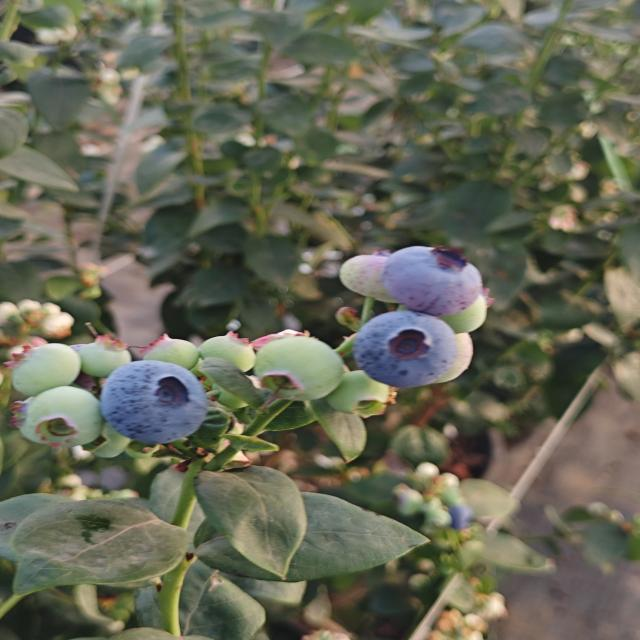ripe: (95, 364, 219, 446), (350, 307, 467, 391), (374, 238, 494, 317), (440, 496, 480, 537)
